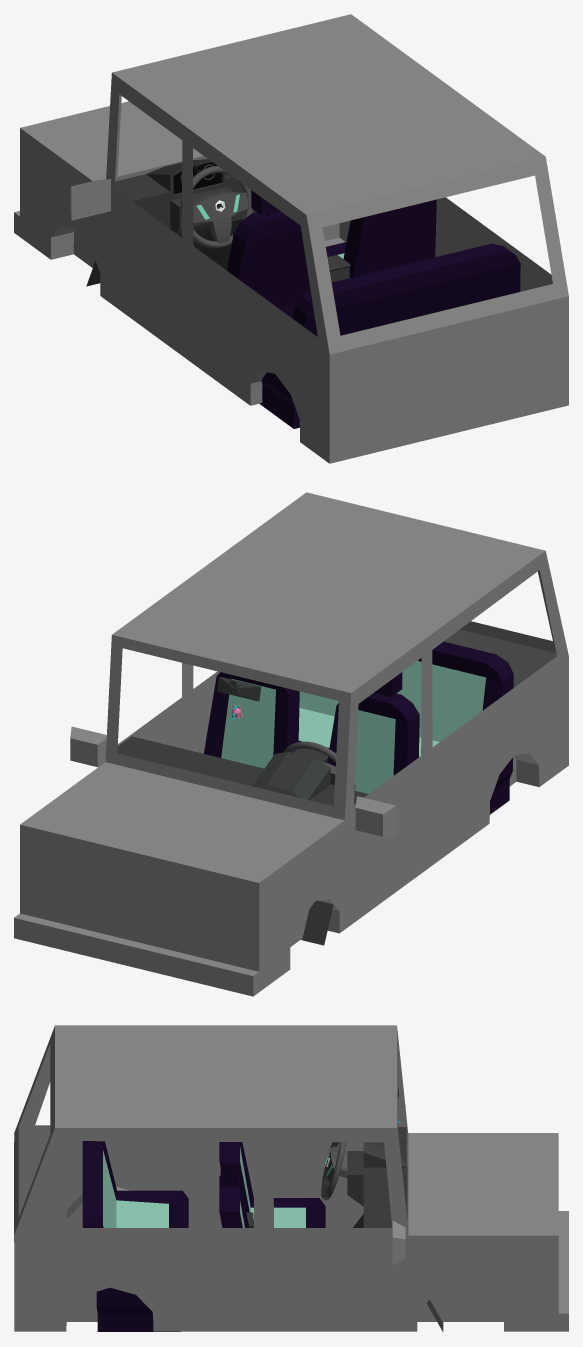
The model's file is pizzacar_without_windows.fbx.
3 renders of one model, top to bottom at view 1: azimuth 30°, elevation 25°; view 2: azimuth 150°, elevation 25°; view 3: azimuth 270°, elevation 25°, orthographic. The views are drawn at different scales.
Parts seen in each view (by area): view 1: pizza_car_seperate, Rückbank, Fahrersitz, Armatur, Beifahrersitz, Innenteil, Lenkradrad; view 2: pizza_car_seperate, Rückbank, Armatur, Beifahrersitz, Fahrersitz, Rückspiegel; view 3: pizza_car_seperate, Rückbank, Armatur, Fahrersitz, Beifahrersitz, Lenkradrad, Innenteil.
Boxes of the visible parts, x1=… form: pizza_car_seperate: x1=14, y1=14, x2=568, y2=463; Rückbank: x1=259, y1=243, x2=520, y2=428; Fahrersitz: x1=227, y1=190, x2=310, y2=318; Armatur: x1=86, y1=159, x2=350, y2=286; Beifahrersitz: x1=325, y1=199, x2=436, y2=277; Innenteil: x1=193, y1=191, x2=248, y2=243; Lenkradrad: x1=180, y1=166, x2=252, y2=248; pizza_car_seperate: x1=14, y1=492, x2=568, y2=996; Rückbank: x1=298, y1=641, x2=513, y2=814; Armatur: x1=117, y1=736, x2=368, y2=945; Beifahrersitz: x1=204, y1=672, x2=299, y2=768; Fahrersitz: x1=327, y1=672, x2=419, y2=793; Rückspiegel: x1=217, y1=677, x2=261, y2=701; pizza_car_seperate: x1=14, y1=1025, x2=568, y2=1331; Rückbank: x1=82, y1=1141, x2=188, y2=1331; Armatur: x1=246, y1=1127, x2=443, y2=1332; Fahrersitz: x1=219, y1=1142, x2=325, y2=1227; Beifahrersitz: x1=219, y1=1146, x2=249, y2=1227; Lenkradrad: x1=321, y1=1142, x2=345, y2=1200; Innenteil: x1=321, y1=1146, x2=338, y2=1193.
Bounding box in the file's own units: 3.84 × 2.66 × 6.48.
